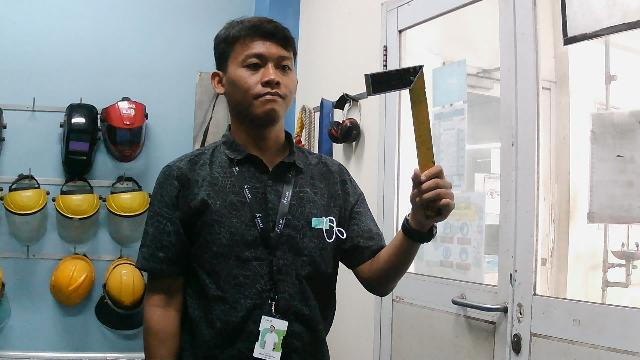penggaris_siku: (362, 56, 447, 222)
